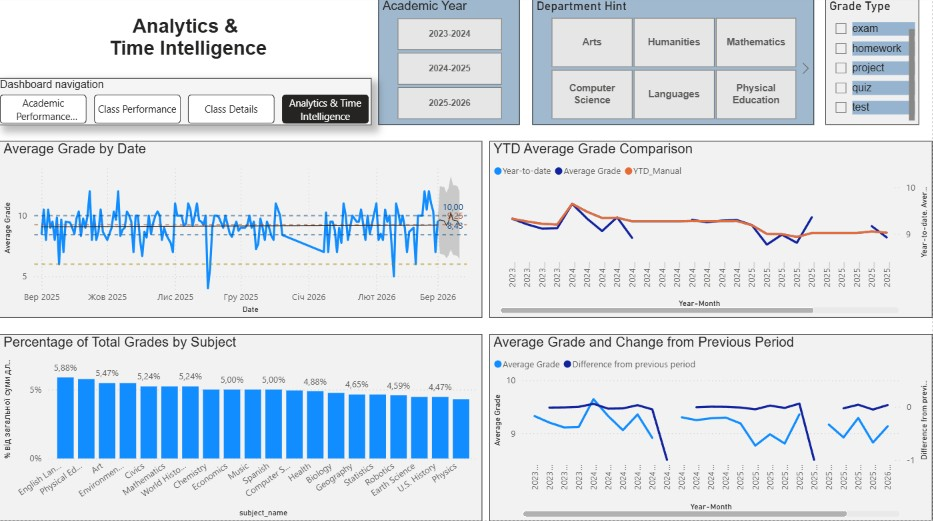

Layout of this report page (visuals, bound fields, positions):
{"tool":"powerbi","page":{"name":"Analytics & Time Intelligence","canvas":[1280,720],"ordinal":4},"visuals":[{"type":"lineChart","title":"Average Grade by Date","fields":{"Category":["calendar.Date"],"Y":["_Measures.Average Grade"]},"box":[0,198.4,662.5,242.4],"z":0},{"type":"clusteredColumnChart","title":"Percentage of Total Grades by Subject","fields":{"Category":["subjects.subject_name"],"Y":["_Measures.Total Grades"]},"box":[0,463.2,662.5,256.8],"z":1000},{"type":"lineChart","title":"YTD Average Grade Comparison","fields":{"Category":["calendar.Year-Month"],"Y2":["_Measures.Year-to-date","_Measures.Average Grade","_Measures.YTD_Manual"]},"box":[672.4,198.4,607.8,242.4],"z":2000},{"type":"lineChart","title":"Average Grade and Change from Previous Period ","fields":{"Category":["calendar.Year-Month"],"Y":["_Measures.Average Grade"],"Y2":["_Measures.Difference from previous period"]},"box":[672.4,463.2,607.8,256.8],"z":3000},{"type":"slicer","title":"Academic Year","fields":{"Values":["periods.academic_year"]},"box":[519.8,2.7,193.9,174.2],"z":4000},{"type":"slicer","title":"Department Hint","fields":{"Values":["subjects.department_hint"]},"box":[731.7,2.7,386.9,174.2],"z":5000},{"type":"slicer","title":"Grade Type","fields":{"Values":["grades.grade_type"]},"box":[1133,2.7,128.4,174.2],"z":6000},{"type":"textbox","box":[0,2.7,510.8,109.5],"z":6001},{"type":"pageNavigator","title":"Dashboard navigation","box":[0,112.2,510.8,64.6],"z":6002}]}

Visuals, with their boxes in screenshot pixels (x1, y1, x2, y2), scaled from the page's 1280x720 canvas onto the 933x521 screenshot:
"Average Grade by Date" lineChart: [left=0, top=144, right=483, bottom=319]
"Percentage of Total Grades by Subject" clusteredColumnChart: [left=0, top=335, right=483, bottom=520]
"YTD Average Grade Comparison" lineChart: [left=490, top=144, right=932, bottom=319]
"Average Grade and Change from Previous Period " lineChart: [left=490, top=335, right=932, bottom=520]
"Academic Year" slicer: [left=379, top=2, right=520, bottom=128]
"Department Hint" slicer: [left=533, top=2, right=815, bottom=128]
"Grade Type" slicer: [left=826, top=2, right=919, bottom=128]
textbox: [left=0, top=2, right=372, bottom=81]
"Dashboard navigation" pageNavigator: [left=0, top=81, right=372, bottom=128]
